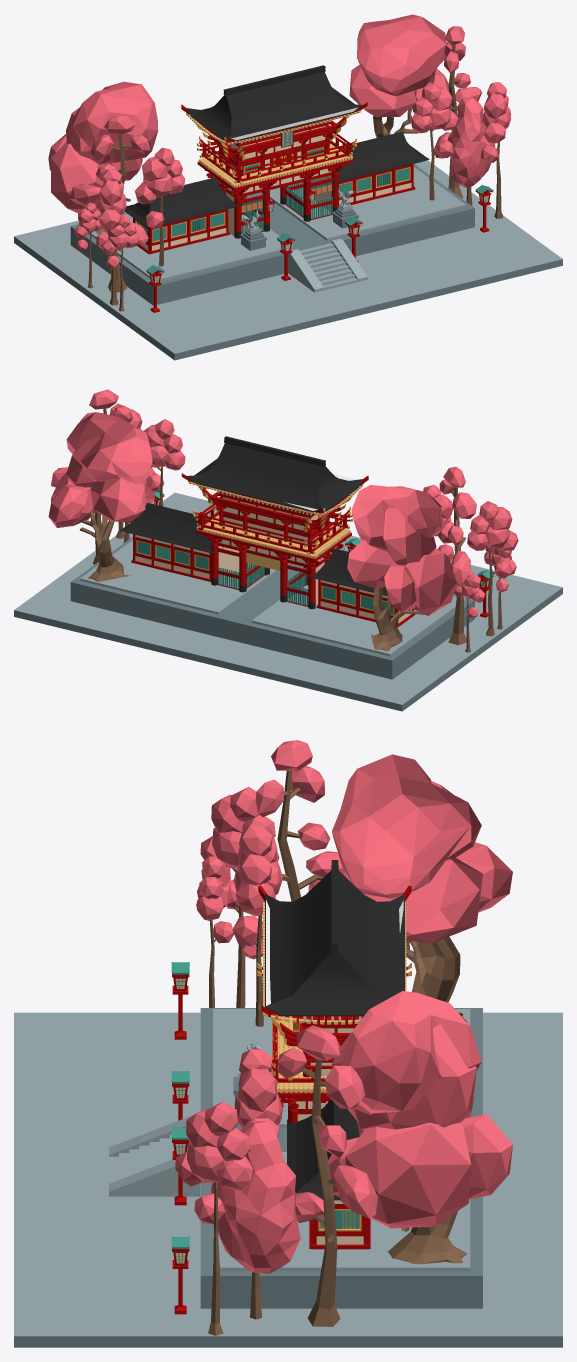
File: fushimi_inari_taisha.glb
The picture shows the model from 3 angles, top to bottom: view 1: azimuth 30°, elevation 25°; view 2: azimuth 150°, elevation 25°; view 3: azimuth 270°, elevation 25°; orthographic projection. The views are drawn at different scales.
Visible parts, largest first — view 1: polySurface478, polySurface1246, _polySurface215Mesh3, polySurface1233, _polySurface215Mesh2, polySurface902, polySurface917, polySurface650, polySurface843, polySurface875, polySurface1004, polySurface892 (+12 smaller); view 2: polySurface478, polySurface1233, polySurface1246, _polySurface215Mesh3, polySurface650, _polySurface215Mesh2, polySurface917, polySurface920, polySurface875, polySurface228, polySurface1004, polySurface1205 (+10 smaller); view 3: polySurface478, polySurface1246, polySurface1233, polySurface902, _polySurface215Mesh3, polySurface917, polySurface892, polySurface875, polySurface843, polySurface920, polySurface479, _polySurface215Mesh2 (+4 smaller).
Boxes of the visible parts, box(x1,y1,x2,y2) form: polySurface478: box(14, 160, 562, 360); polySurface1246: box(349, 14, 450, 137); _polySurface215Mesh3: box(181, 65, 367, 144); polySurface1233: box(48, 81, 158, 234); _polySurface215Mesh2: box(124, 132, 429, 227); polySurface902: box(434, 26, 495, 205); polySurface917: box(135, 82, 458, 266); polySurface650: box(133, 164, 415, 254); polySurface843: box(288, 238, 367, 292); polySurface875: box(69, 115, 150, 292); polySurface1004: box(197, 133, 356, 183); polySurface892: box(481, 82, 511, 218); polySurface478: box(14, 492, 562, 711); polySurface1233: box(347, 485, 456, 651); polySurface1246: box(48, 412, 152, 581); _polySurface215Mesh3: box(181, 436, 368, 515); polySurface650: box(131, 534, 415, 627); _polySurface215Mesh2: box(120, 503, 387, 595); polySurface917: box(144, 419, 454, 561); polySurface920: box(467, 501, 518, 636); polySurface875: box(439, 466, 476, 645); polySurface228: box(217, 491, 328, 544); polySurface1004: box(193, 504, 352, 554); polySurface1205: box(207, 537, 319, 609); polySurface478: box(14, 1008, 562, 1347); polySurface1246: box(328, 991, 512, 1264); polySurface1233: box(332, 754, 512, 1022); polySurface902: box(211, 1025, 377, 1326); _polySurface215Mesh3: box(258, 860, 411, 1024); polySurface917: box(232, 825, 282, 1138); polySurface892: box(175, 1101, 253, 1335); polySurface875: box(242, 740, 344, 959); polySurface843: box(109, 1115, 200, 1196); polySurface920: box(200, 787, 279, 1007); polySurface479: box(171, 962, 189, 1314); _polySurface215Mesh2: box(287, 1099, 359, 1200).
Size of the model in its own units: 139 by 55.93 by 91.32.
